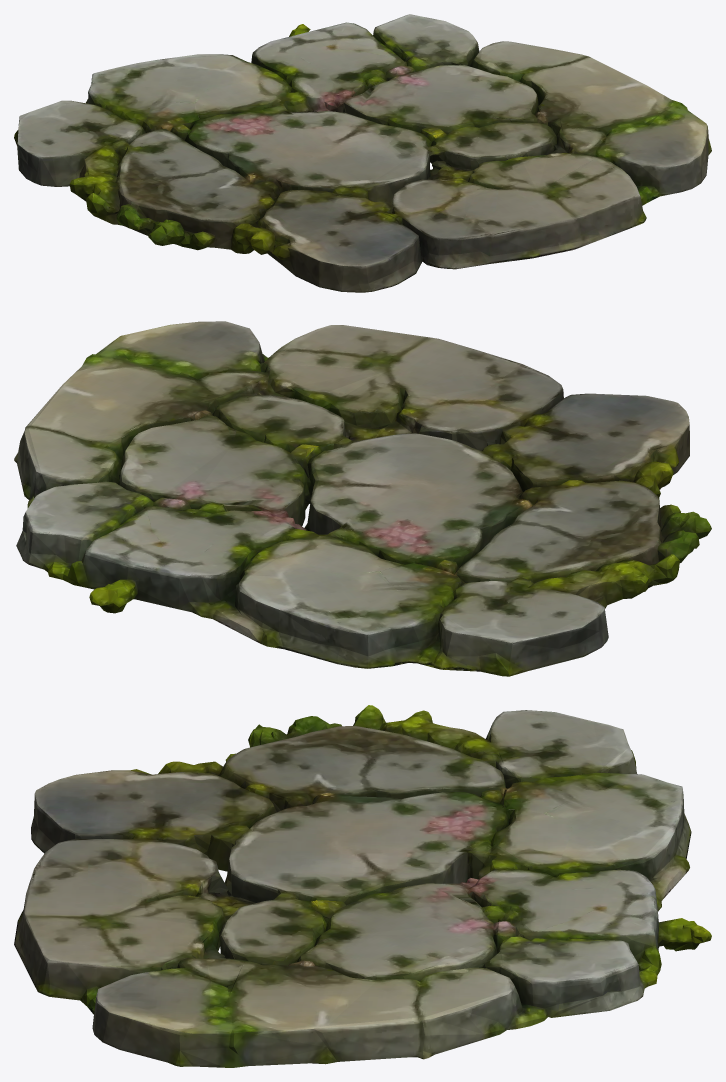
3 renders of one model, top to bottom at view 1: azimuth 30°, elevation 25°; view 2: azimuth 150°, elevation 25°; view 3: azimuth 270°, elevation 25°, orthographic. The views are drawn at different scales.
Visible parts, largest first — view 1: world; view 2: world; view 3: world.
Part boxes in pixels (x1,y1,x2,y2): world: (14,14,711,292); world: (14,321,711,676); world: (14,705,711,1067).
Bounding box in the file's own units: 0.9987 × 0.058 × 0.9027.
Materials: 1 (1 with a texture image).
